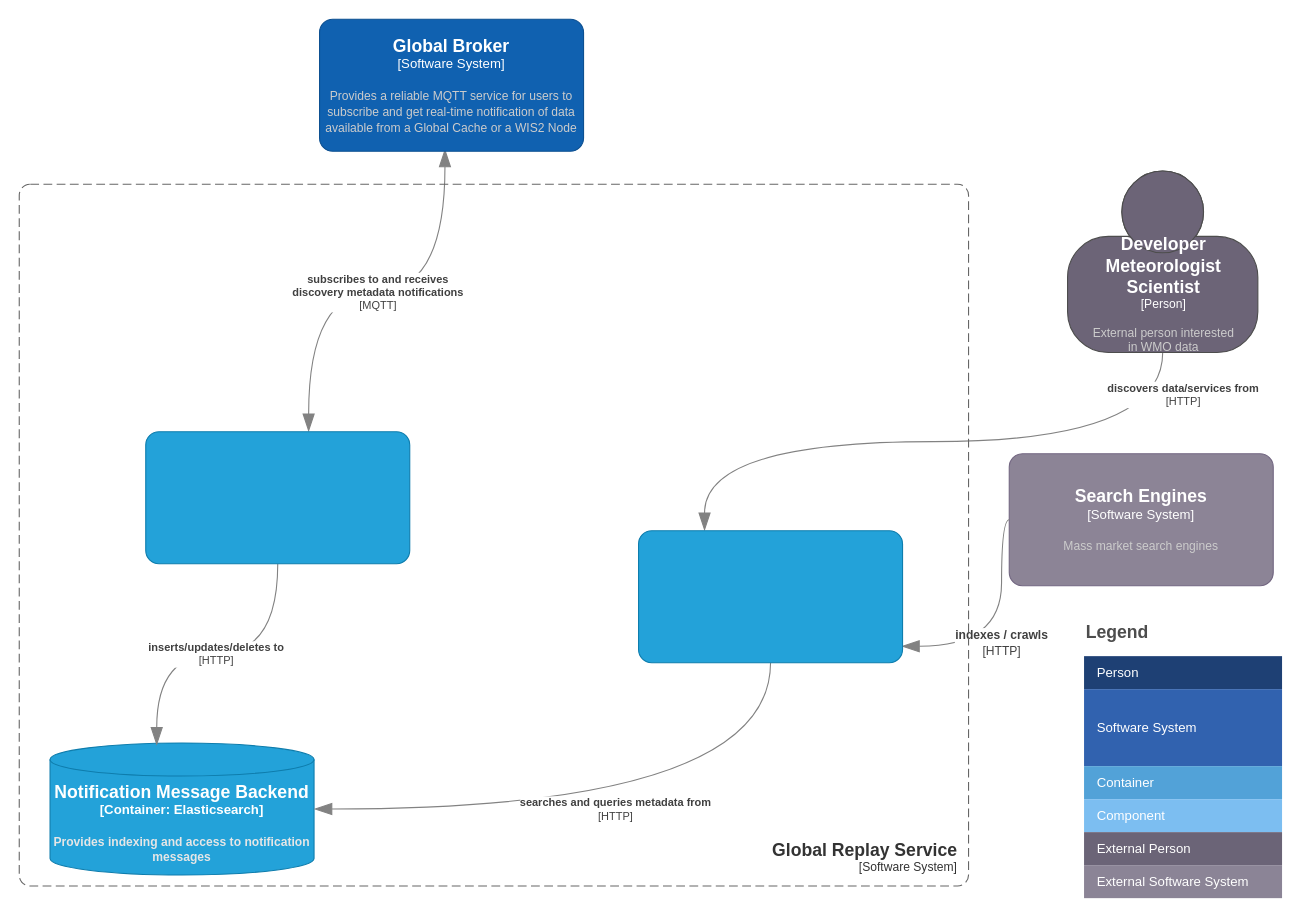
Image size: 1301x917. Some labels were removed from this diagram. The shapes that lost their labels are listed below. From the top down, each one's centre as x and y in pixels, then its label:
[277,497]: GRep Management [Container: Python/pywis-pubsub] Ingests notification metadata
[770,596]: GRep API [Container: pygeoapi] Provides notification message access service
